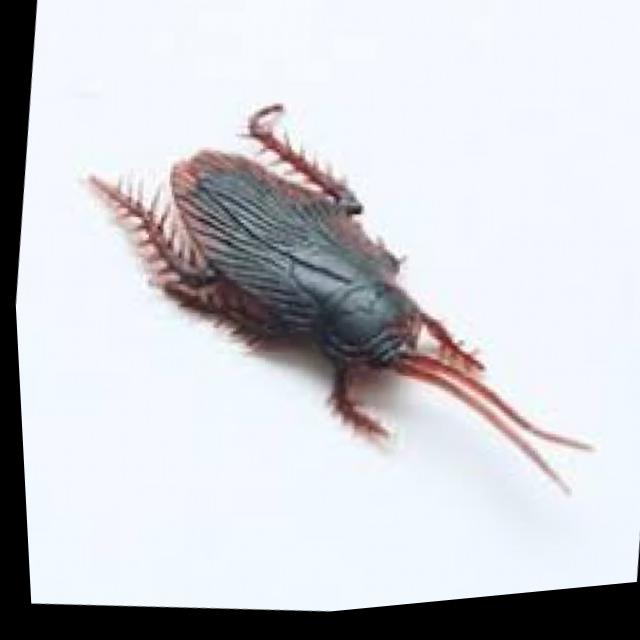Cockroach: (3, 27, 640, 569)
